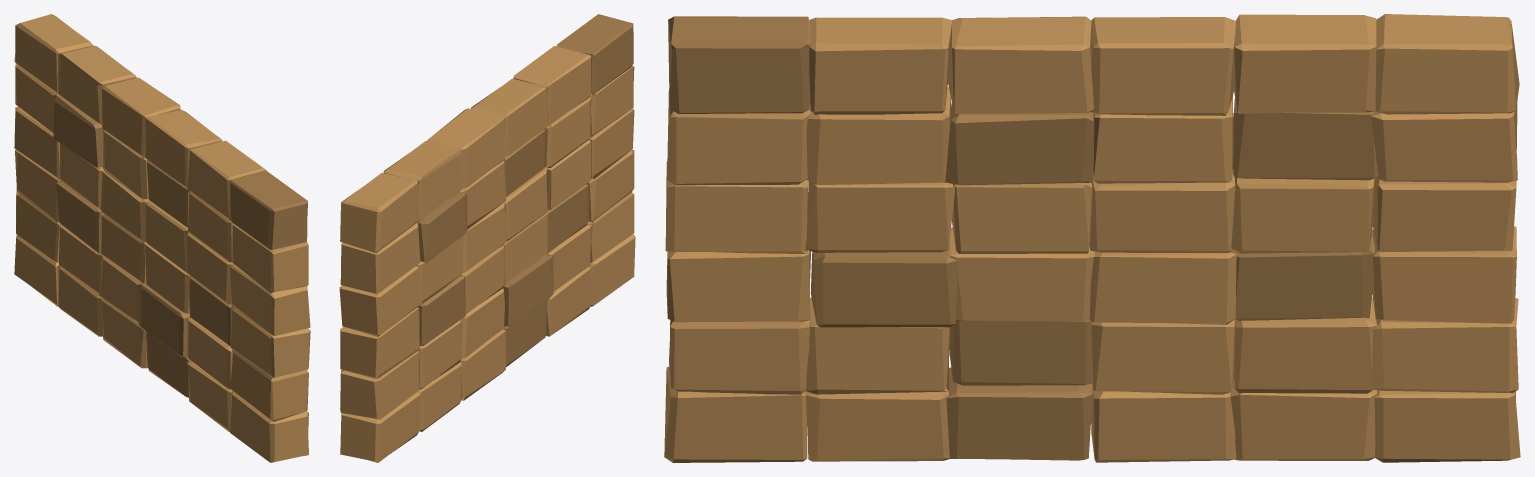
Rendered from iimprovedwallbaby.fbx.
3 views of the same model, side by side, from view 1: azimuth 30°, elevation 25°; view 2: azimuth 150°, elevation 25°; view 3: azimuth 270°, elevation 25° (orthographic). The views are drawn at different scales.
Visible parts, largest first — view 1: iNDOOR; view 2: iNDOOR; view 3: iNDOOR.
Part boxes in pixels (x1,y1,x2,y2): iNDOOR: (14, 14, 310, 462); iNDOOR: (339, 14, 635, 462); iNDOOR: (664, 14, 1520, 462).
Bounding box in the file's own units: 153 × 791 × 1456.
